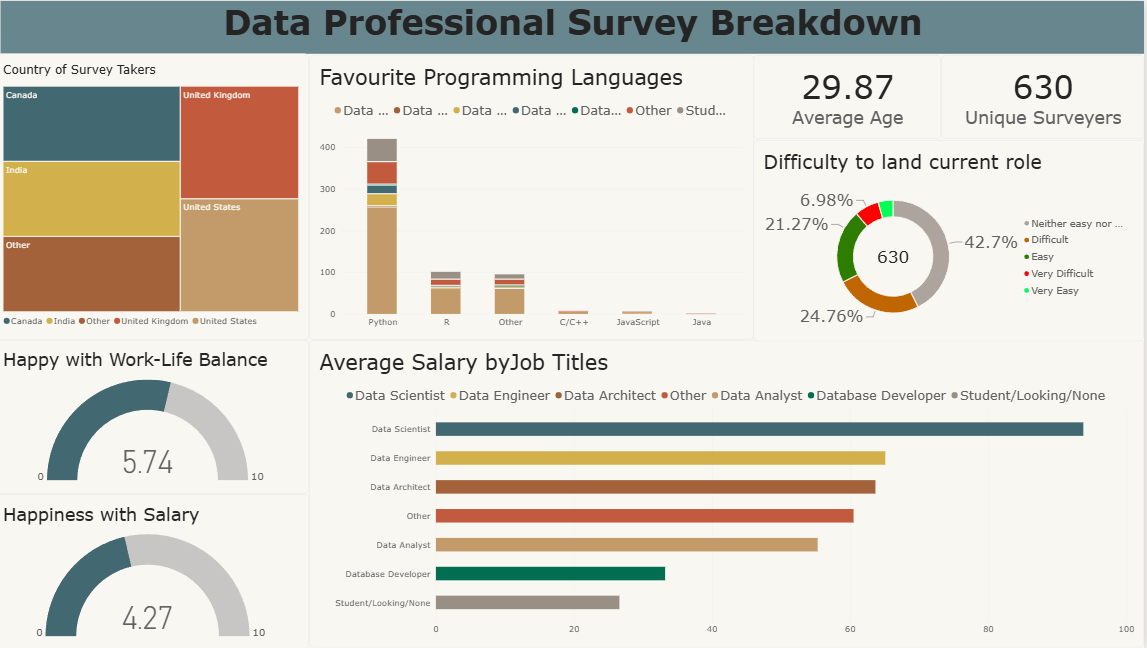

The page's visual inventory and layout, read from the dashboard file:
{"tool":"powerbi","page":{"name":"Page 1","canvas":[1920,1080],"ordinal":0},"visuals":[{"type":"textbox","box":[11.3,0,1907.7,87.9],"z":0},{"type":"cardVisual","fields":{"Data":["Count(Data Professional Survey.Unique ID)"]},"box":[1579.6,91,339.5,140.2],"z":1000},{"type":"cardVisual","fields":{"Data":["Avg(Data Professional Survey.Q10 - Current Age)"]},"box":[1267.2,91,312.5,140.2],"z":2000},{"type":"barChart","title":"Average Salary by Job Titles","fields":{"Category":["Data Professional Survey.Q1 - Which Title Best Fits your Current Role?.1.1"],"Series":["Data Professional Survey.Q1 - Which Title Best Fits your Current Role?.1.1"],"Y":["Avg(Data Professional Survey.Average Salary)"]},"box":[526.5,565.9,1392.6,511.8],"z":3000},{"type":"columnChart","title":"Favourite Programming Languages","fields":{"Category":["Data Professional Survey.Q5 - Favorite Programming Language.1"],"Series":["Data Professional Survey.Q1 - Which Title Best Fits your Current Role?.1.1"],"Y":["CountNonNull(Data Professional Survey.Unique ID)"]},"box":[526.5,91,740.6,474.9],"z":4000},{"type":"treemap","title":"Country of Survey Takers","fields":{"Group":["Data Professional Survey.Q11 - Which Country do you live in?.1"],"Values":["Count(Data Professional Survey.Q11 - Which Country do you live in?.1)"]},"box":[0,88.6,526.5,477.3],"z":5000},{"type":"gauge","title":"Happiness with Salary","fields":{"MaxValue":["Max(Data Professional Survey.Q6 - How Happy are you in your Current Position with the following? (Salary))2"],"MinValue":["Min(Data Professional Survey.Q6 - How Happy are you in your Current Position with the following? (Salary))1"],"Y":["Avg(Data Professional Survey.Q6 - How Happy are you in your Current Position with the following? (Salary))"]},"box":[0,821.8,526.5,258.4],"z":6000},{"type":"gauge","title":"Happy with Work-Life Balance","fields":{"MaxValue":["Max(Data Professional Survey.Q6 - How Happy are you in your Current Position with the following? (Work/Life Balance))"],"MinValue":["Min(Data Professional Survey.Q6 - How Happy are you in your Current Position with the following? (Work/Life Balance))"],"Y":["Avg(Data Professional Survey.Q6 - How Happy are you in your Current Position with the following? (Work/Life Balance))1"]},"box":[0,565.9,526.5,255.9],"z":7000},{"type":"donutChart","title":"Difficulty to land current role","fields":{"Category":["Data Professional Survey.Q7 - How difficult was it for you to break into Data?"],"Y":["CountNonNull(Data Professional Survey.Q7 - How difficult was it for you to break into Data?)"]},"box":[1267.2,231.3,652,334.6],"z":7001}]}

Visuals, with their boxes in screenshot pixels (x1, y1, x2, y2), scaled from the page's 1920x1080 canvas onto the 1147x648 screenshot:
textbox: (7, 0, 1146, 53)
cardVisual - Count(Data Professional Survey.Unique ID): (944, 55, 1146, 139)
cardVisual - Avg(Data Professional Survey.Q10 - Current Age): (757, 55, 944, 139)
"Average Salary by Job Titles" barChart: (315, 340, 1146, 647)
"Favourite Programming Languages" columnChart: (315, 55, 757, 340)
"Country of Survey Takers" treemap: (0, 53, 315, 340)
"Happiness with Salary" gauge: (0, 493, 315, 647)
"Happy with Work-Life Balance" gauge: (0, 340, 315, 493)
"Difficulty to land current role" donutChart: (757, 139, 1146, 340)
